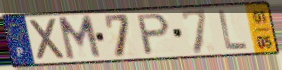7: (179, 8, 210, 56), (103, 13, 133, 59)
L: (216, 8, 249, 52)
M: (56, 13, 104, 62)
P: (135, 12, 172, 58)
X: (27, 16, 68, 63)
